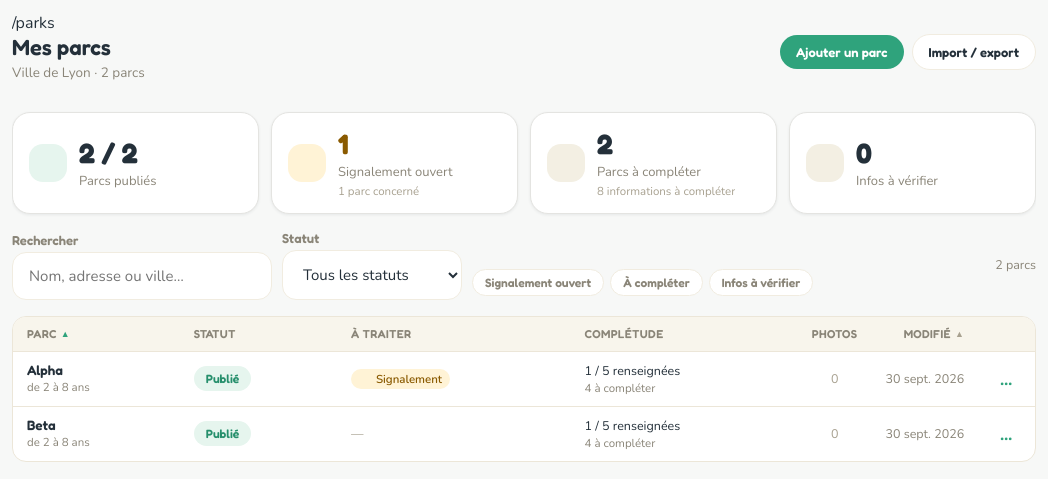
Test case: CommuneParks — Mes parcs (COLL-03B) › quick filters narrow the list and 'Réinitialiser' brings it back
Expected: the text "Alpha" is shown, [27, 362, 63, 378]
Click the button "Signalement ouvert": (538, 282) [472, 268, 604, 296]
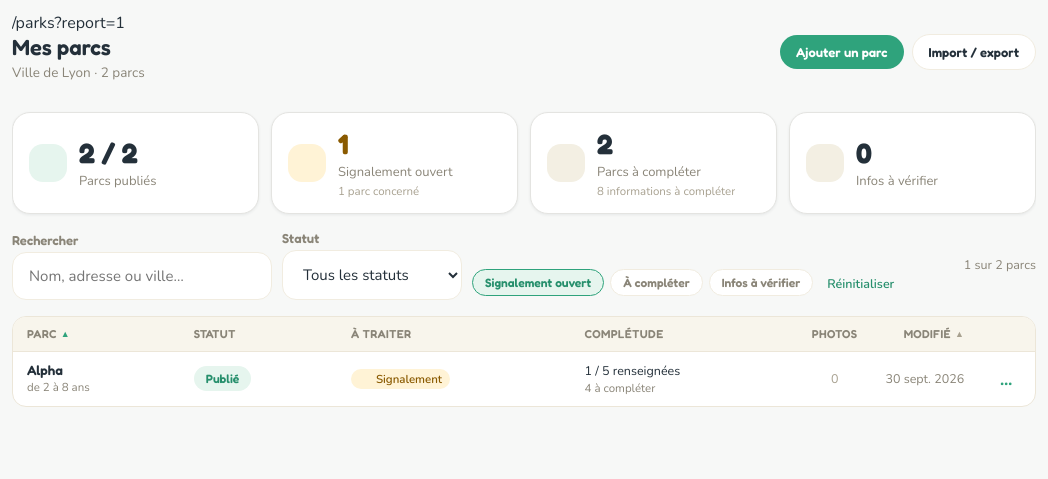
Expected: the text with test id "loc" shows "report=1", [12, 12, 125, 34]
Expected: the text "1 sur 2 parcs" is shown, [964, 256, 1036, 273]
Click the button "Réinitialiser": (861, 283) [823, 266, 898, 300]
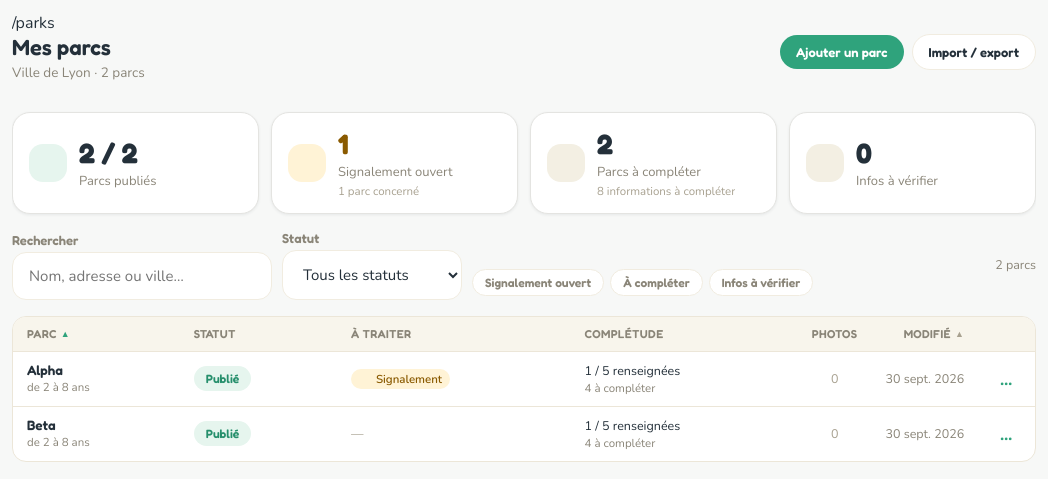
Expected: the text with test id "loc" reads "/parks", [12, 12, 55, 34]
Expected: the button with aria-label "Ouvrir la fiche de Beta" is shown, [27, 417, 166, 450]
